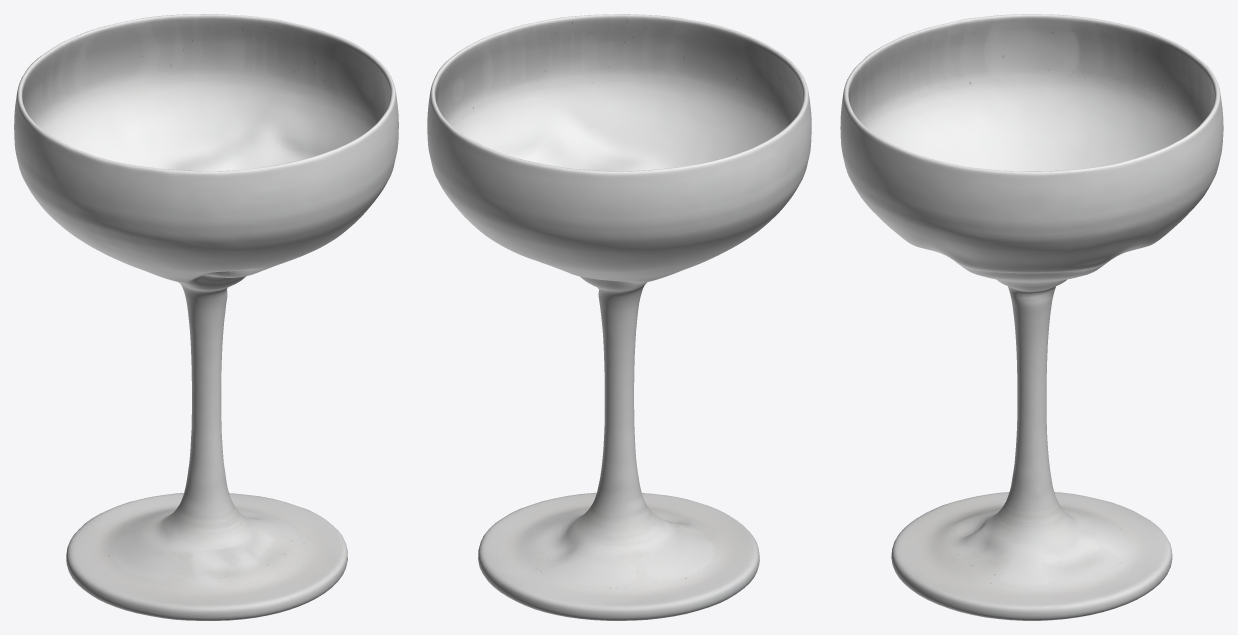
The model's file is model_champagne_coupe.glb.
3 views of the same model, side by side, from view 1: azimuth 30°, elevation 25°; view 2: azimuth 150°, elevation 25°; view 3: azimuth 270°, elevation 25° (orthographic).
Parts seen in each view (by area): view 1: tripo_node_94683444-95cb-48a3-adfb-d2669b8d6396; view 2: tripo_node_94683444-95cb-48a3-adfb-d2669b8d6396; view 3: tripo_node_94683444-95cb-48a3-adfb-d2669b8d6396.
Boxes of the visible parts, x1,y1,x2,y2 form: tripo_node_94683444-95cb-48a3-adfb-d2669b8d6396: [14, 14, 398, 620]; tripo_node_94683444-95cb-48a3-adfb-d2669b8d6396: [427, 14, 811, 620]; tripo_node_94683444-95cb-48a3-adfb-d2669b8d6396: [840, 14, 1223, 620].
Bounding box in the file's own units: 0.7371 × 0.9997 × 0.7358.
Materials: 1 (1 with a texture image).
